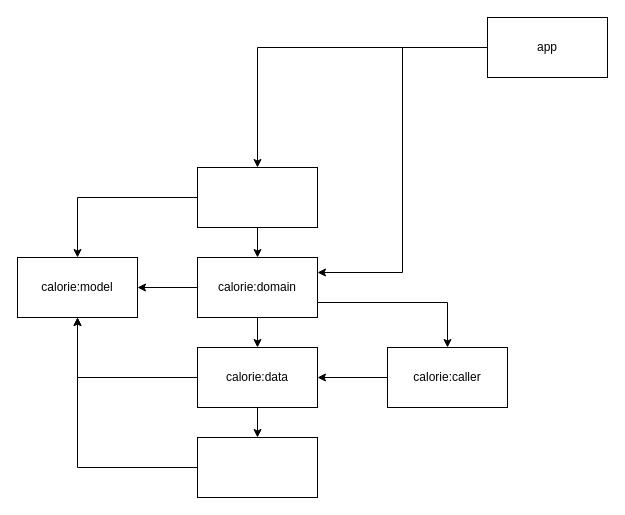
This 625x515 diagram has some shape labels left out. Here are the shapes that lost their labels. From the top down, the centre of each, then its label:
At point 257,197: "calorie:ui".
At point 257,467: "calorie:storage".
